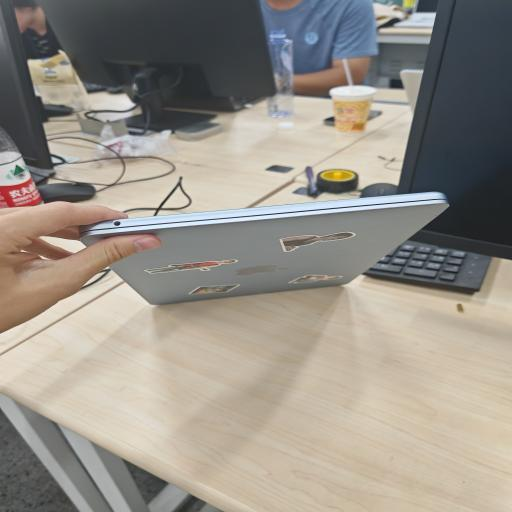laptop: (80, 192, 448, 304)
mouse: (37, 183, 96, 203), (360, 182, 397, 198)
